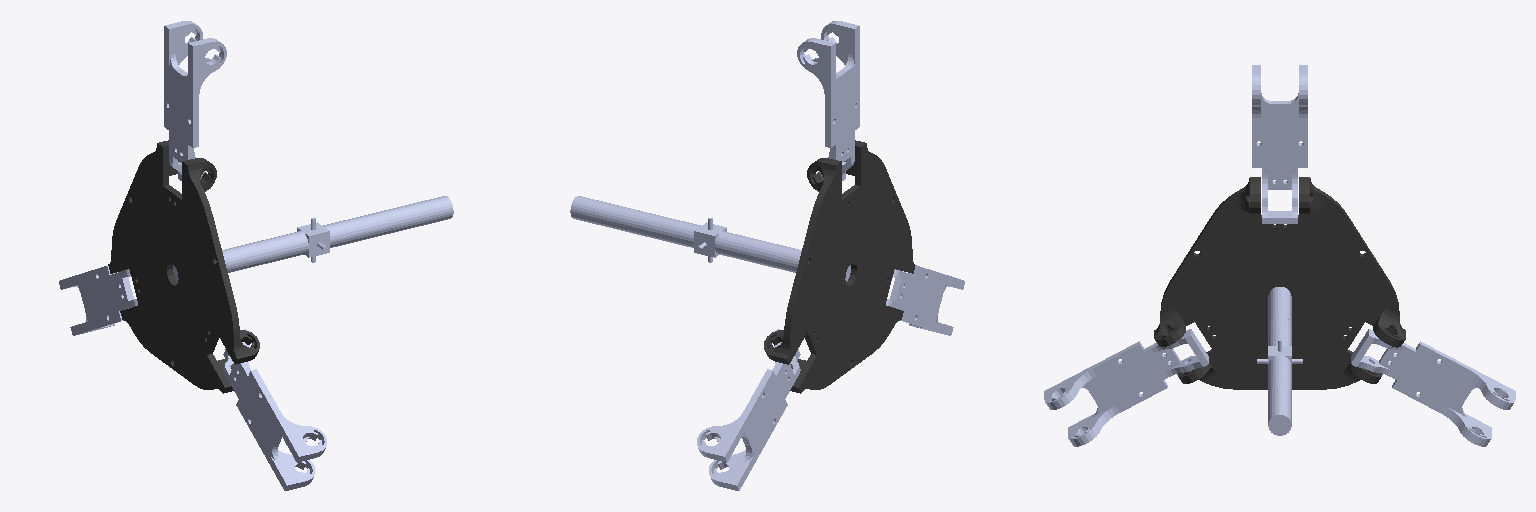
robot.urdf — segf_ver2:
<?xml version="1.0" encoding="utf-8"?>
<!-- This URDF was automatically created by SolidWorks to URDF Exporter! Originally created by [author] ([email redacted]) 
     Commit Version: 1.6.0-1-g15f4949  Build Version: 1.6.7594.29634
     For more information, please see http://wiki.ros.org/sw_urdf_exporter -->
<robot
  name="segf_ver2">
  <link
    name="base_link">
    <inertial>
      <origin
        xyz="0.010763 0.12575 0.19671"
        rpy="0 0 0" />
      <mass
        value="0.029248" />
      <inertia
        ixx="3.8875E-05"
        ixy="-5.9801E-08"
        ixz="3.066E-09"
        iyy="1.9306E-05"
        iyz="7.6463E-10"
        izz="1.9864E-05" />
    </inertial>
    <visual>
      <origin
        xyz="0 0 0"
        rpy="0 0 0" />
      <geometry>
        <mesh
          filename="package://segf_ver2/meshes/base_link.STL" />
      </geometry>
      <material
        name="">
        <color
          rgba="0.29804 0.29804 0.29804 1" />
      </material>
    </visual>
    <collision>
      <origin
        xyz="0 0 0"
        rpy="0 0 0" />
      <geometry>
        <mesh
          filename="package://segf_ver2/meshes/base_link.STL" />
      </geometry>
    </collision>
  </link>
  <link
    name="sus1">
    <inertial>
      <origin
        xyz="0.024528 -0.0057974 -0.008"
        rpy="0 0 0" />
      <mass
        value="0.0048446" />
      <inertia
        ixx="3.4495E-07"
        ixy="5.1061E-08"
        ixz="1.278E-14"
        iyy="2.3123E-06"
        iyz="2.1948E-14"
        izz="2.0865E-06" />
    </inertial>
    <visual>
      <origin
        xyz="0 0 0"
        rpy="0 0 0" />
      <geometry>
        <mesh
          filename="package://segf_ver2/meshes/sus1.STL" />
      </geometry>
      <material
        name="">
        <color
          rgba="0.79216 0.81961 0.93333 1" />
      </material>
    </visual>
    <collision>
      <origin
        xyz="0 0 0"
        rpy="0 0 0" />
      <geometry>
        <mesh
          filename="package://segf_ver2/meshes/sus1.STL" />
      </geometry>
    </collision>
  </link>
  <joint
    name="sus1r"
    type="revolute">
    <origin
      xyz="0.020949 -0.28148 0.067161"
      rpy="3.1416 -0.5236 1.5708" />
    <parent
      link="base_link" />
    <child
      link="sus1" />
    <axis
      xyz="0 0 0" />
    <limit
      lower="0"
      upper="0"
      effort="0"
      velocity="0" />
  </joint>
  <link
    name="w11">
    <inertial>
      <origin
        xyz="5.2221E-12 0.011 1.8397E-11"
        rpy="0 0 0" />
      <mass
        value="0.0080256" />
      <inertia
        ixx="2.6304E-06"
        ixy="-7.5528E-16"
        ixz="6.5732E-16"
        iyy="9.6877E-07"
        iyz="-1.4033E-15"
        izz="2.6304E-06" />
    </inertial>
    <visual>
      <origin
        xyz="0 0 0"
        rpy="0 0 0" />
      <geometry>
        <mesh
          filename="package://segf_ver2/meshes/w11.STL" />
      </geometry>
      <material
        name="">
        <color
          rgba="0.79216 0.81961 0.93333 1" />
      </material>
    </visual>
    <collision>
      <origin
        xyz="0 0 0"
        rpy="0 0 0" />
      <geometry>
        <mesh
          filename="package://segf_ver2/meshes/w11.STL" />
      </geometry>
    </collision>
  </link>
  <joint
    name="w11r"
    type="continuous">
    <origin
      xyz="0 0 -0.019"
      rpy="1.5708 0 -1.0993" />
    <parent
      link="sus1" />
    <child
      link="w11" />
    <axis
      xyz="0 0 0" />
  </joint>
  <link
    name="sus2">
    <inertial>
      <origin
        xyz="0.024528 -0.0057974 -0.008"
        rpy="0 0 0" />
      <mass
        value="0.0048446" />
      <inertia
        ixx="3.4495E-07"
        ixy="5.1061E-08"
        ixz="1.5559E-13"
        iyy="2.3123E-06"
        iyz="4.3038E-14"
        izz="2.0865E-06" />
    </inertial>
    <visual>
      <origin
        xyz="0 0 0"
        rpy="0 0 0" />
      <geometry>
        <mesh
          filename="package://segf_ver2/meshes/sus2.STL" />
      </geometry>
      <material
        name="">
        <color
          rgba="0.79216 0.81961 0.93333 1" />
      </material>
    </visual>
    <collision>
      <origin
        xyz="0 0 0"
        rpy="0 0 0" />
      <geometry>
        <mesh
          filename="package://segf_ver2/meshes/sus2.STL" />
      </geometry>
    </collision>
  </link>
  <joint
    name="sus2r"
    type="revolute">
    <origin
      xyz="0.020949 -0.10396 0.081018"
      rpy="0 -0.5236 -1.5708" />
    <parent
      link="base_link" />
    <child
      link="sus2" />
    <axis
      xyz="0 0 0" />
    <limit
      lower="0"
      upper="0"
      effort="0"
      velocity="0" />
  </joint>
  <link
    name="w12">
    <inertial>
      <origin
        xyz="5.2131E-12 0.011 1.8437E-11"
        rpy="0 0 0" />
      <mass
        value="0.0080256" />
      <inertia
        ixx="2.6304E-06"
        ixy="-7.5528E-16"
        ixz="6.5728E-16"
        iyy="9.6877E-07"
        iyz="-1.3997E-15"
        izz="2.6304E-06" />
    </inertial>
    <visual>
      <origin
        xyz="0 0 0"
        rpy="0 0 0" />
      <geometry>
        <mesh
          filename="package://segf_ver2/meshes/w12.STL" />
      </geometry>
      <material
        name="">
        <color
          rgba="0.79216 0.81961 0.93333 1" />
      </material>
    </visual>
    <collision>
      <origin
        xyz="0 0 0"
        rpy="0 0 0" />
      <geometry>
        <mesh
          filename="package://segf_ver2/meshes/w12.STL" />
      </geometry>
    </collision>
  </link>
  <joint
    name="w12r"
    type="continuous">
    <origin
      xyz="0 0 -0.019"
      rpy="1.5708 0 -1.0993" />
    <parent
      link="sus2" />
    <child
      link="w12" />
    <axis
      xyz="0 0 0" />
  </joint>
  <link
    name="sus3">
    <inertial>
      <origin
        xyz="0.024528 -0.0057974 -0.008"
        rpy="0 0 0" />
      <mass
        value="0.0048446" />
      <inertia
        ixx="3.4495E-07"
        ixy="5.1061E-08"
        ixz="7.8572E-14"
        iyy="2.3122E-06"
        iyz="3.487E-14"
        izz="2.0865E-06" />
    </inertial>
    <visual>
      <origin
        xyz="0 0 0"
        rpy="0 0 0" />
      <geometry>
        <mesh
          filename="package://segf_ver2/meshes/sus3.STL" />
      </geometry>
      <material
        name="">
        <color
          rgba="0.79216 0.81961 0.93333 1" />
      </material>
    </visual>
    <collision>
      <origin
        xyz="0 0 0"
        rpy="0 0 0" />
      <geometry>
        <mesh
          filename="package://segf_ver2/meshes/sus3.STL" />
      </geometry>
    </collision>
  </link>
  <joint
    name="sus3r"
    type="revolute">
    <origin
      xyz="0.020949 -0.20472 0.22783"
      rpy="1.5708 1.5708 0" />
    <parent
      link="base_link" />
    <child
      link="sus3" />
    <axis
      xyz="0 0 0" />
    <limit
      lower="0"
      upper="0"
      effort="0"
      velocity="0" />
  </joint>
  <link
    name="w13">
    <inertial>
      <origin
        xyz="5.2176E-12 0.011 1.8417E-11"
        rpy="0 0 0" />
      <mass
        value="0.0080256" />
      <inertia
        ixx="2.6304E-06"
        ixy="-7.5527E-16"
        ixz="6.573E-16"
        iyy="9.6877E-07"
        iyz="-1.4015E-15"
        izz="2.6304E-06" />
    </inertial>
    <visual>
      <origin
        xyz="0 0 0"
        rpy="0 0 0" />
      <geometry>
        <mesh
          filename="package://segf_ver2/meshes/w13.STL" />
      </geometry>
      <material
        name="">
        <color
          rgba="0.79216 0.81961 0.93333 1" />
      </material>
    </visual>
    <collision>
      <origin
        xyz="0 0 0"
        rpy="0 0 0" />
      <geometry>
        <mesh
          filename="package://segf_ver2/meshes/w13.STL" />
      </geometry>
    </collision>
  </link>
  <joint
    name="w13r"
    type="continuous">
    <origin
      xyz="0 0 -0.019"
      rpy="1.5708 0 -1.0993" />
    <parent
      link="sus3" />
    <child
      link="w13" />
    <axis
      xyz="0 0 0" />
  </joint>
  <link
    name="con1">
    <inertial>
      <origin
        xyz="0.015 -8.3267E-17 -1.5266E-16"
        rpy="0 0 0" />
      <mass
        value="0.0023562" />
      <inertia
        ixx="2.9452E-08"
        ixy="4.8635E-22"
        ixz="1.2191E-21"
        iyy="1.9144E-07"
        iyz="0"
        izz="1.9144E-07" />
    </inertial>
    <visual>
      <origin
        xyz="0 0 0"
        rpy="0 0 0" />
      <geometry>
        <mesh
          filename="package://segf_ver2/meshes/con1.STL" />
      </geometry>
      <material
        name="">
        <color
          rgba="0.79216 0.81961 0.93333 1" />
      </material>
    </visual>
    <collision>
      <origin
        xyz="0 0 0"
        rpy="0 0 0" />
      <geometry>
        <mesh
          filename="package://segf_ver2/meshes/con1.STL" />
      </geometry>
    </collision>
  </link>
  <joint
    name="con1f"
    type="fixed">
    <origin
      xyz="0.011619 -0.19672 0.12534"
      rpy="3.0572 0 0" />
    <parent
      link="base_link" />
    <child
      link="con1" />
    <axis
      xyz="-1 0 0" />
  </joint>
  <link
    name="con2">
    <inertial>
      <origin
        xyz="5.5511E-17 0.05113 -1.6653E-16"
        rpy="0 0 0" />
      <mass
        value="0.0027934" />
      <inertia
        ixx="3.4715E-07"
        ixy="-3.2517E-22"
        ixz="4.8568E-24"
        iyy="3.9932E-08"
        iyz="1.0781E-21"
        izz="3.4942E-07" />
    </inertial>
    <visual>
      <origin
        xyz="0 0 0"
        rpy="0 0 0" />
      <geometry>
        <mesh
          filename="package://segf_ver2/meshes/con2.STL" />
      </geometry>
      <material
        name="">
        <color
          rgba="0.79216 0.81961 0.93333 1" />
      </material>
    </visual>
    <collision>
      <origin
        xyz="0 0 0"
        rpy="0 0 0" />
      <geometry>
        <mesh
          filename="package://segf_ver2/meshes/con2.STL" />
      </geometry>
    </collision>
  </link>
  <joint
    name="con2p"
    type="prismatic">
    <origin
      xyz="-0.003 0 0"
      rpy="0 -1.4864 -1.5708" />
    <parent
      link="con1" />
    <child
      link="con2" />
    <axis
      xyz="0 0 0" />
    <limit
      lower="0"
      upper="0"
      effort="0"
      velocity="0" />
  </joint>
  <link
    name="uni">
    <inertial>
      <origin
        xyz="-1.3878E-17 1.9284E-09 1.9284E-09"
        rpy="0 0 0" />
      <mass
        value="0.00027149" />
      <inertia
        ixx="5.9356E-09"
        ixy="4.4722E-15"
        ixz="-4.4722E-15"
        iyy="3.2007E-09"
        iyz="1.0079E-21"
        izz="3.2007E-09" />
    </inertial>
    <visual>
      <origin
        xyz="0 0 0"
        rpy="0 0 0" />
      <geometry>
        <mesh
          filename="package://segf_ver2/meshes/uni.STL" />
      </geometry>
      <material
        name="">
        <color
          rgba="0.79216 0.81961 0.93333 1" />
      </material>
    </visual>
    <collision>
      <origin
        xyz="0 0 0"
        rpy="0 0 0" />
      <geometry>
        <mesh
          filename="package://segf_ver2/meshes/uni.STL" />
      </geometry>
    </collision>
  </link>
  <joint
    name="uni1r"
    type="revolute">
    <origin
      xyz="0 0.068 0"
      rpy="0 0 1.5708" />
    <parent
      link="con2" />
    <child
      link="uni" />
    <axis
      xyz="0 0 0" />
    <limit
      lower="0"
      upper="0"
      effort="0"
      velocity="0" />
  </joint>
  <link
    name="con3">
    <inertial>
      <origin
        xyz="2.7756E-17 0.05113 1.3878E-16"
        rpy="0 0 0" />
      <mass
        value="0.0027934" />
      <inertia
        ixx="3.4942E-07"
        ixy="-3.7176E-22"
        ixz="2.0606E-23"
        iyy="3.9932E-08"
        iyz="-9.9706E-22"
        izz="3.4715E-07" />
    </inertial>
    <visual>
      <origin
        xyz="0 0 0"
        rpy="0 0 0" />
      <geometry>
        <mesh
          filename="package://segf_ver2/meshes/con3.STL" />
      </geometry>
      <material
        name="">
        <color
          rgba="0.79216 0.81961 0.93333 1" />
      </material>
    </visual>
    <collision>
      <origin
        xyz="0 0 0"
        rpy="0 0 0" />
      <geometry>
        <mesh
          filename="package://segf_ver2/meshes/con3.STL" />
      </geometry>
    </collision>
  </link>
  <joint
    name="con3p"
    type="revolute">
    <origin
      xyz="0.068 0 0"
      rpy="0 0 1.5708" />
    <parent
      link="uni" />
    <child
      link="con3" />
    <axis
      xyz="0 0 0" />
    <limit
      lower="0"
      upper="0"
      effort="0"
      velocity="0" />
  </joint>
  <link
    name="con4">
    <inertial>
      <origin
        xyz="-0.015 6.9389E-16 4.4409E-16"
        rpy="0 0 0" />
      <mass
        value="0.0023562" />
      <inertia
        ixx="2.9452E-08"
        ixy="-1.1574E-21"
        ixz="-6.8231E-22"
        iyy="1.9144E-07"
        iyz="0"
        izz="1.9144E-07" />
    </inertial>
    <visual>
      <origin
        xyz="0 0 0"
        rpy="0 0 0" />
      <geometry>
        <mesh
          filename="package://segf_ver2/meshes/con4.STL" />
      </geometry>
      <material
        name="">
        <color
          rgba="0.79216 0.81961 0.93333 1" />
      </material>
    </visual>
    <collision>
      <origin
        xyz="0 0 0"
        rpy="0 0 0" />
      <geometry>
        <mesh
          filename="package://segf_ver2/meshes/con4.STL" />
      </geometry>
    </collision>
  </link>
  <joint
    name="con4p"
    type="prismatic">
    <origin
      xyz="0 0.003 0"
      rpy="-0.9827 0 -1.5708" />
    <parent
      link="con3" />
    <child
      link="con4" />
    <axis
      xyz="-1 0 0" />
    <limit
      lower="0"
      upper="0"
      effort="0"
      velocity="0" />
  </joint>
</robot>

--- Facts derived from the render (not from the file) ---
The picture shows the robot from 3 angles, left to right: view 1: azimuth 30°, elevation 25°; view 2: azimuth 150°, elevation 25°; view 3: azimuth 270°, elevation 25°; orthographic projection.
Model segf_ver2 with 12 links and 11 joints (5 revolute, 3 continuous, 2 prismatic, 1 fixed), rooted at base_link, posed every joint at zero.
Visible links, largest first — view 1: base_link, sus3, sus1, sus2, con3, con2, con4, con1; view 2: base_link, sus3, sus2, sus1, con2, con3, con4, con1; view 3: base_link, sus1, sus2, sus3, con4, con2, con3, con1.
Boxes of the visible links, x1,y1,x2,y2 form: base_link: (108, 140, 259, 393); sus3: (164, 21, 226, 188); sus1: (223, 329, 326, 490); sus2: (59, 265, 137, 335); con3: (297, 211, 391, 254); con2: (240, 222, 329, 268); con4: (384, 196, 453, 233); con1: (173, 246, 246, 281); base_link: (764, 140, 915, 393); sus3: (797, 21, 859, 188); sus2: (697, 329, 800, 490); sus1: (886, 265, 964, 335); con2: (694, 222, 783, 268); con3: (632, 211, 726, 252); con4: (570, 196, 639, 233); con1: (777, 246, 850, 281); base_link: (1154, 177, 1405, 389); sus1: (1044, 329, 1208, 446); sus2: (1351, 329, 1515, 446); sus3: (1252, 65, 1307, 223); con4: (1268, 385, 1291, 435); con2: (1268, 316, 1291, 360); con3: (1268, 356, 1291, 393); con1: (1268, 287, 1291, 324).
Size in the robot's own frame: 0.133 by 0.2016 by 0.1746 metres.
Meshes: 12 distinct files referenced, 9 mesh visuals loaded (9 binary STL); not drawn: 3 (reference not matched to a file when rendering).